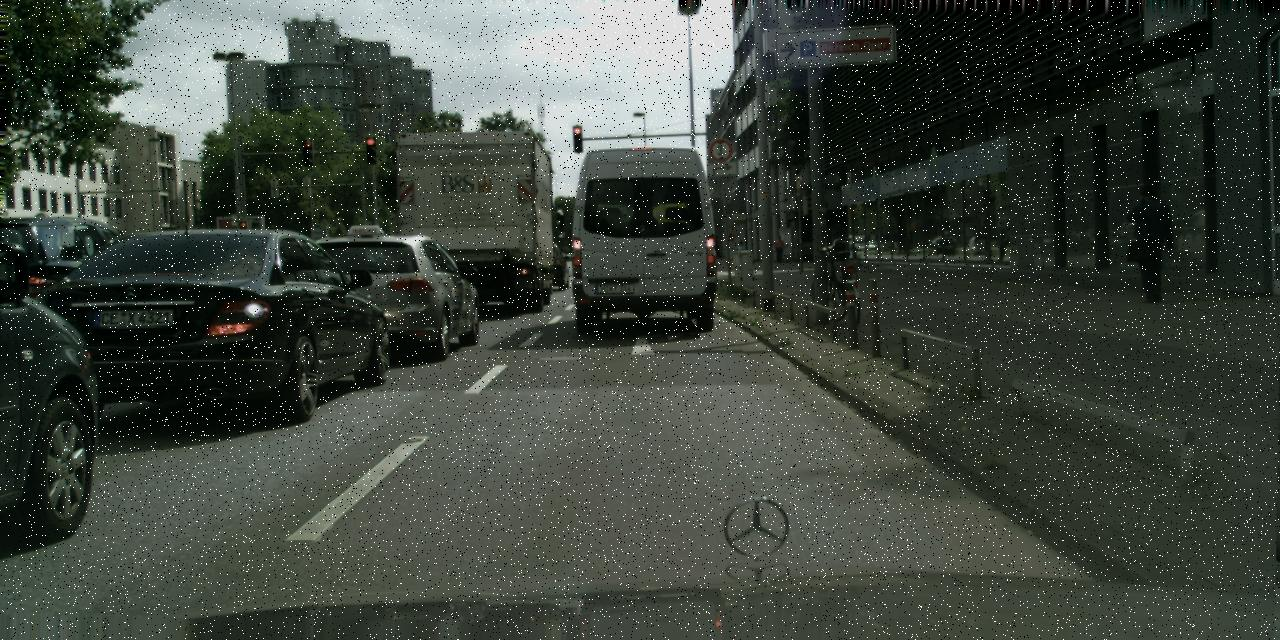ped: (1126, 183, 1174, 301), (772, 235, 784, 263), (736, 240, 744, 264)
